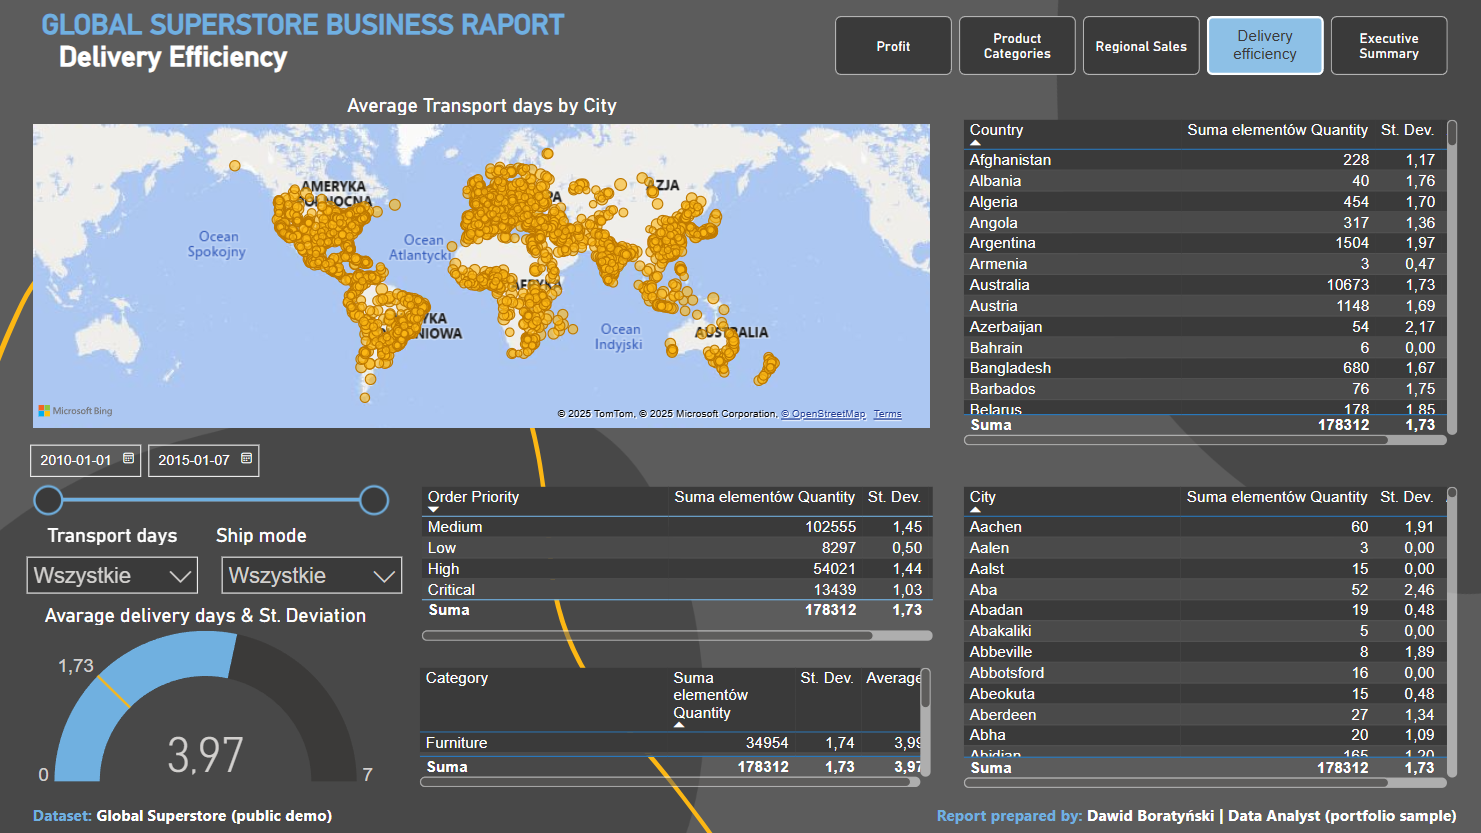

This screenshot's page, from the dashboard's own definition file:
{"tool":"powerbi","page":{"name":"Delivery efficency","canvas":[1280,720],"ordinal":3},"visuals":[{"type":"gauge","title":"Avarage delivery days & St. Deviation","fields":{"Y":["Avg(Sheet1.Transport time)"],"MinValue":["select"],"MaxValue":["select1"],"TargetValue":["Median(Sheet1.Transport time)"]},"box":[12.3,539.9,328.8,164.4],"z":0},{"type":"tableEx","fields":{"Values":["Sheet1.Category","Sum(Sheet1.Quantity)","Sheet1.Transport time2","Sheet1.Transport time"]},"box":[357.3,595.9,452.5,113.1],"z":1000},{"type":"tableEx","fields":{"Values":["Sheet1.Country","Sum(Sheet1.Quantity)","Sheet1.Transport time2","Sheet1.Transport time"]},"box":[827,94.5,436.8,342.3],"z":2000},{"type":"tableEx","fields":{"Values":["Sheet1.City","Sum(Sheet1.Quantity)","Sheet1.Transport time2","Sheet1.Transport time"]},"box":[827,454,436.8,255.2],"z":3000},{"type":"tableEx","fields":{"Values":["Sheet1.Order Priority","Sum(Sheet1.Quantity)","Sheet1.Transport time2","Sheet1.Transport time"]},"box":[357.1,451.5,452.8,136.2],"z":4000},{"type":"map","fields":{"Category":["Sheet1.City"],"Size":["Avg(Sheet1.Transport time)"]},"box":[12.3,71.2,797.6,306.8],"z":5000},{"type":"textbox","box":[12.3,19.6,776.7,52.8],"z":6000},{"type":"slicer","title":"Ship mode","fields":{"Values":["Sheet1.Ship Mode"]},"box":[176.7,454,168.1,71.2],"z":7000},{"type":"slicer","title":"Date","fields":{"Values":["Sheet1.Ship Date"]},"box":[12.3,377.9,797.6,73.6],"z":8000},{"type":"slicer","title":"Transport days","fields":{"Values":["Sheet1.Transport time"]},"box":[8.6,454,168.1,71.2],"z":9000},{"type":"pageNavigator","box":[730.1,19.6,533.7,51.5],"z":10000}]}

Visuals, with their boxes in screenshot pixels (x1, y1, x2, y2), scaled from the page's 1280x720 canvas onto the 1481x833 screenshot:
"Avarage delivery days & St. Deviation" gauge: detection(14, 625, 395, 815)
tableEx - Sheet1.Category x Sum(Sheet1.Quantity): detection(413, 689, 937, 820)
tableEx - Sheet1.Country x Sum(Sheet1.Quantity): detection(957, 109, 1462, 505)
tableEx - Sheet1.City x Sum(Sheet1.Quantity): detection(957, 525, 1462, 821)
tableEx - Sheet1.Order Priority x Sum(Sheet1.Quantity): detection(413, 522, 937, 680)
map - Sheet1.City x Avg(Sheet1.Transport time): detection(14, 82, 937, 437)
textbox: detection(14, 23, 913, 84)
"Ship mode" slicer: detection(204, 525, 399, 608)
"Date" slicer: detection(14, 437, 937, 522)
"Transport days" slicer: detection(10, 525, 204, 608)
pageNavigator: detection(845, 23, 1462, 82)
